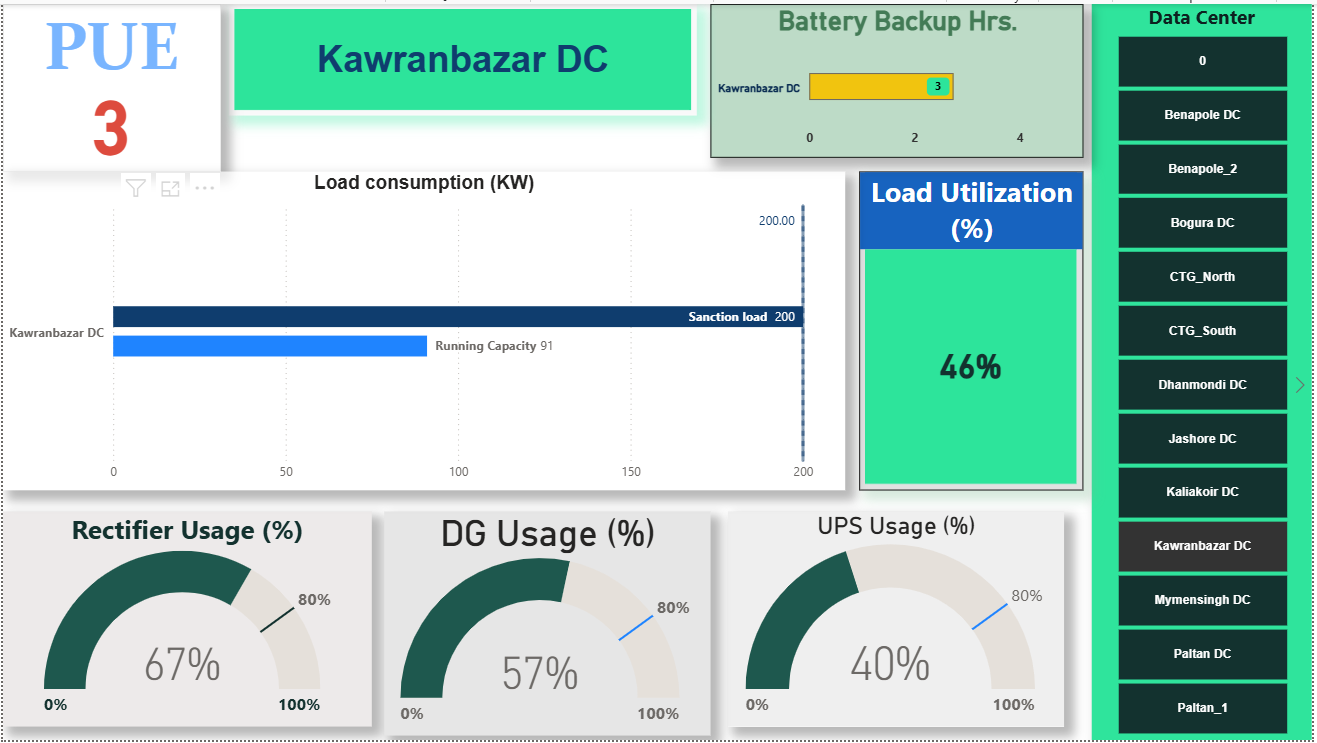

This screenshot's page, from the dashboard's own definition file:
{"tool":"powerbi","page":{"name":"Page 1","canvas":[1280,720],"ordinal":0},"visuals":[{"type":"slicer","title":"Data Center","fields":{"Values":["Sheet1.Data Center Location"]},"box":[1065.1,0,215.2,720.2],"z":0},{"type":"gauge","title":"Rectifier Usage (%)","fields":{"Y":["Sum(Sheet1.Rectifer Usage (%))"]},"box":[0,496.5,360.7,210.3],"z":1000},{"type":"advanceCardE03760C5AB684758B56AA29F9E6C257B","title":"PUE","fields":{"mainMeasure":["Sum(Sheet1.PUE )"]},"box":[0,0,212.8,163.9],"z":2000},{"type":"advanceCardE03760C5AB684758B56AA29F9E6C257B","title":"Load Utilization (%)","fields":{"mainMeasure":["Sheet1.Load Consumption (%)"]},"box":[837.6,163.9,218.9,311.8],"z":3000},{"type":"gauge","fields":{"Y":["Sheet1.DG Usage (%)"]},"box":[373,496.5,319.2,218.9],"z":4000},{"type":"gauge","fields":{"Y":["Sum(Sheet1.UPS Usage (%))"]},"box":[709.2,496.5,328.9,210.3],"z":5000},{"type":"clusteredBarChart","title":"Battery Backup Hrs.","fields":{"Category":["Sheet1.Data Center Location"],"Y":["Sum(Sheet1.Battery Backup hrs. )"]},"box":[692.1,0,364.4,150.4],"z":6000},{"type":"clusteredBarChart","title":"Load consumption (KW) ","fields":{"Y":["Sum(Sheet1.Sanction load )","Sum(Sheet1.Running Capacity)"],"Category":["Sheet1.Data Center Location"]},"box":[0,163.9,824.2,311.8],"z":6001},{"type":"advanceCardE03760C5AB684758B56AA29F9E6C257B","fields":{"mainMeasure":["Min(Sheet1.Data Center Location)"]},"box":[221.3,0,457.3,108.8],"z":6002}]}

Visuals, with their boxes in screenshot pixels (x1, y1, x2, y2), scaled from the page's 1280x720 canvas onto the 1317x743 screenshot:
"Data Center" slicer: bbox=[1096, 0, 1316, 742]
"Rectifier Usage (%)" gauge: bbox=[0, 512, 371, 729]
"PUE" advanceCardE03760C5AB684758B56AA29F9E6C257B: bbox=[0, 0, 219, 169]
"Load Utilization (%)" advanceCardE03760C5AB684758B56AA29F9E6C257B: bbox=[862, 169, 1087, 491]
gauge - Sheet1.DG Usage (%): bbox=[384, 512, 712, 738]
gauge - Sum(Sheet1.UPS Usage (%)): bbox=[730, 512, 1068, 729]
"Battery Backup Hrs." clusteredBarChart: bbox=[712, 0, 1087, 155]
"Load consumption (KW) " clusteredBarChart: bbox=[0, 169, 848, 491]
advanceCardE03760C5AB684758B56AA29F9E6C257B - Min(Sheet1.Data Center Location): bbox=[228, 0, 698, 112]
